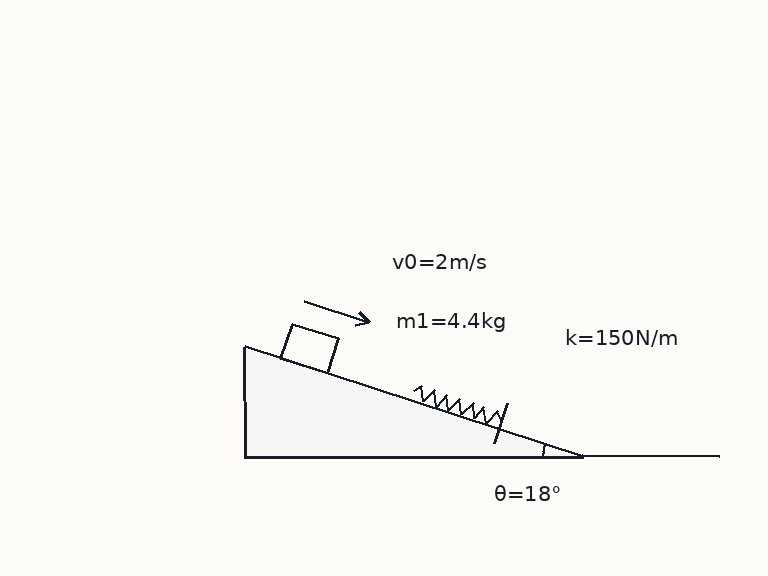block: (279, 322, 340, 375)
ramp: (242, 344, 585, 458)
spring: (411, 385, 503, 425)
